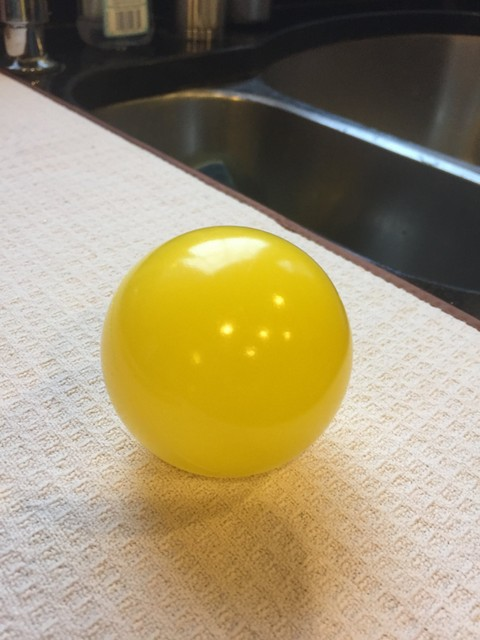ball: (100, 222, 355, 479)
